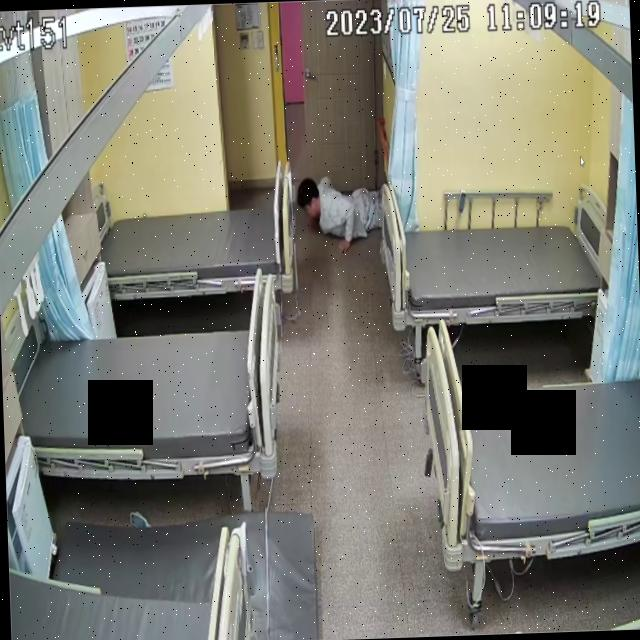bed: (420, 312, 640, 565), (14, 319, 282, 481), (378, 203, 616, 330), (101, 194, 293, 298)
fall: (294, 172, 384, 255)
patient: (296, 172, 384, 254)
